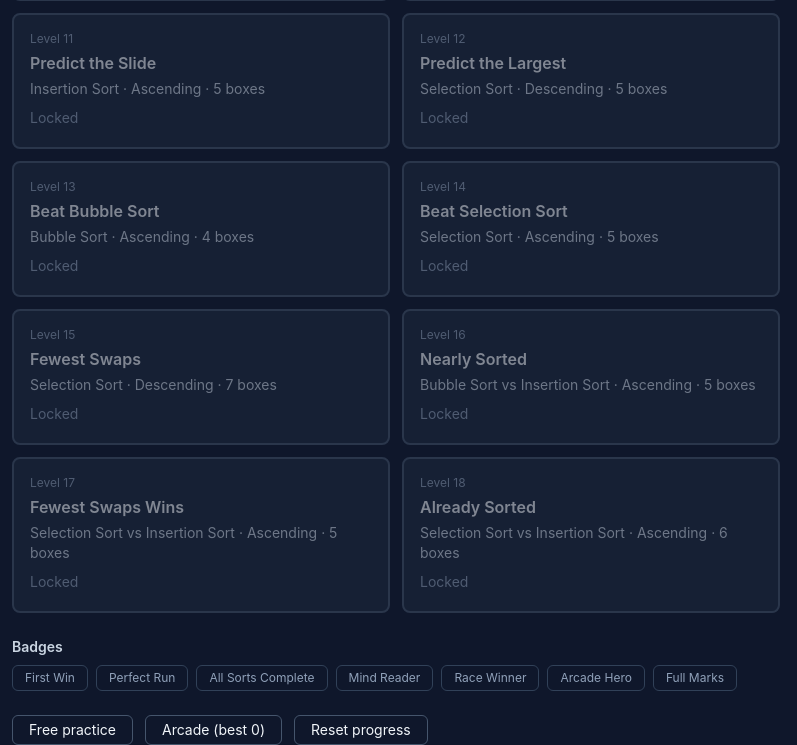
Test: LevelMap › asks before resetting progress
This screenshot has width=797, height=745.
(page scrolled)
Click the button "Reset progress". click: (361, 730)
box: [294,715,428,744]
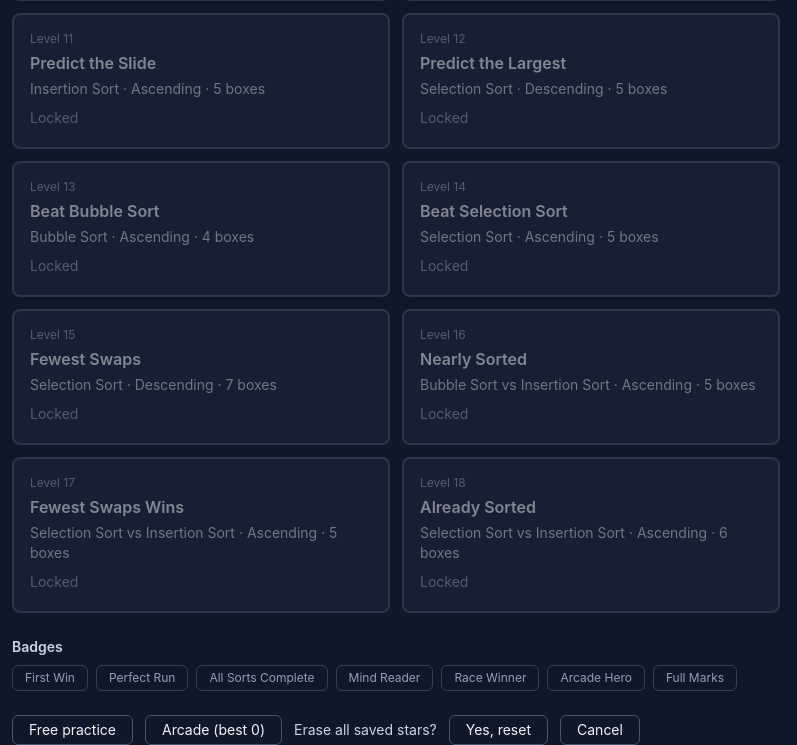
expect the text "Erase all saved stars?" is shown: met, box [294,720,437,740]
Click the button "Yes, reset". click: (498, 730)
box: [449,715,548,744]
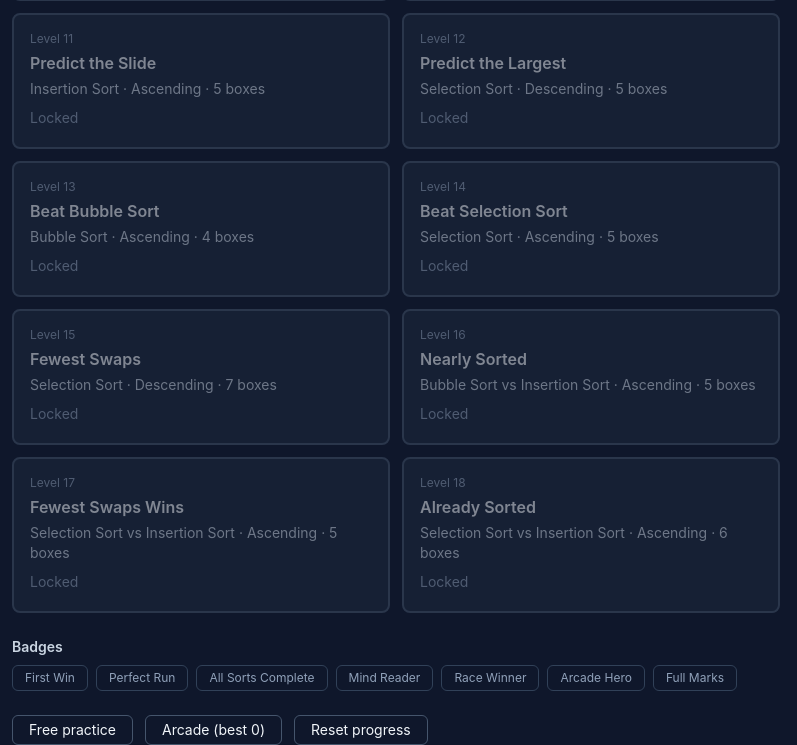
expect the button "Reset progress" is shown: met, box [294,715,428,744]
